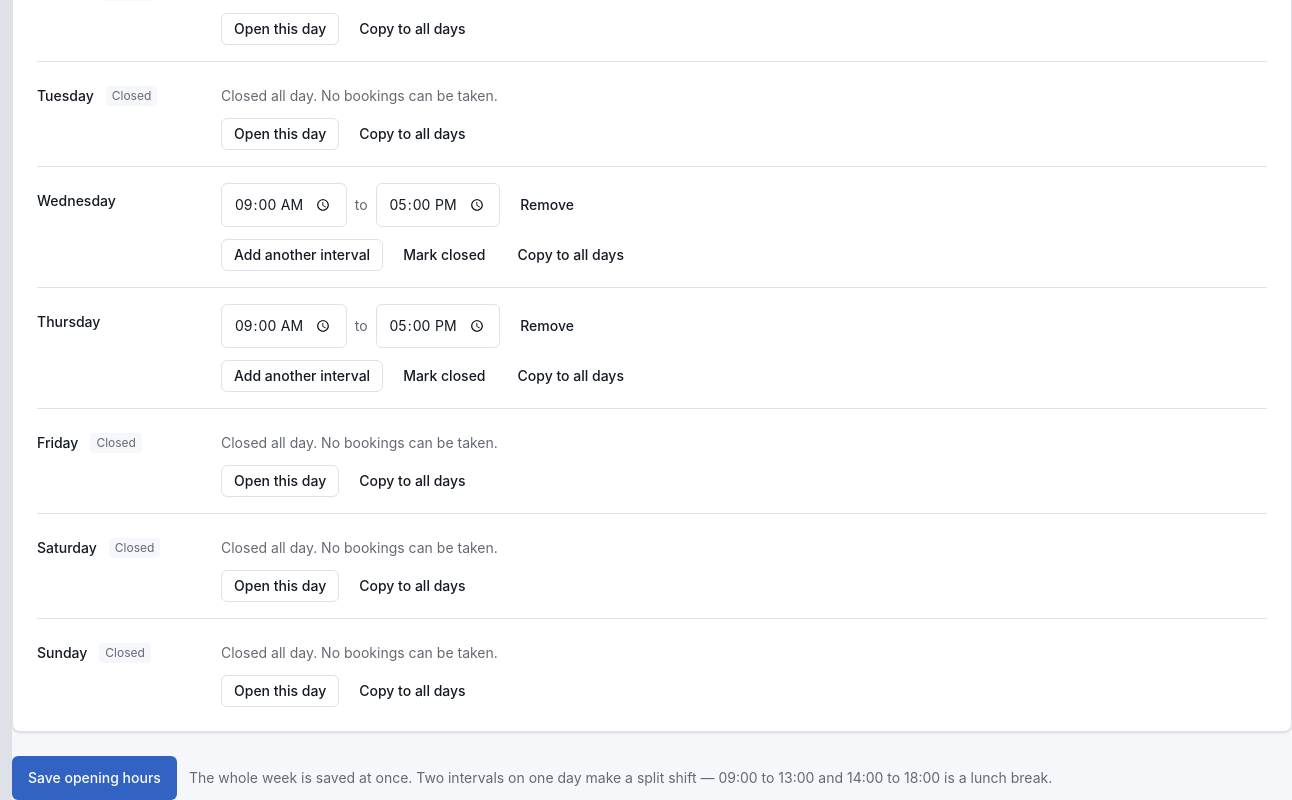
Scenario: HoursEditor, refused › shows the server sentence when the refusal names no field at all
This screenshot has width=1292, height=800.
(page scrolled)
Step 1. Click the button "Save opening hours" → (94, 778), box [12,756,177,799]
(page scrolled)
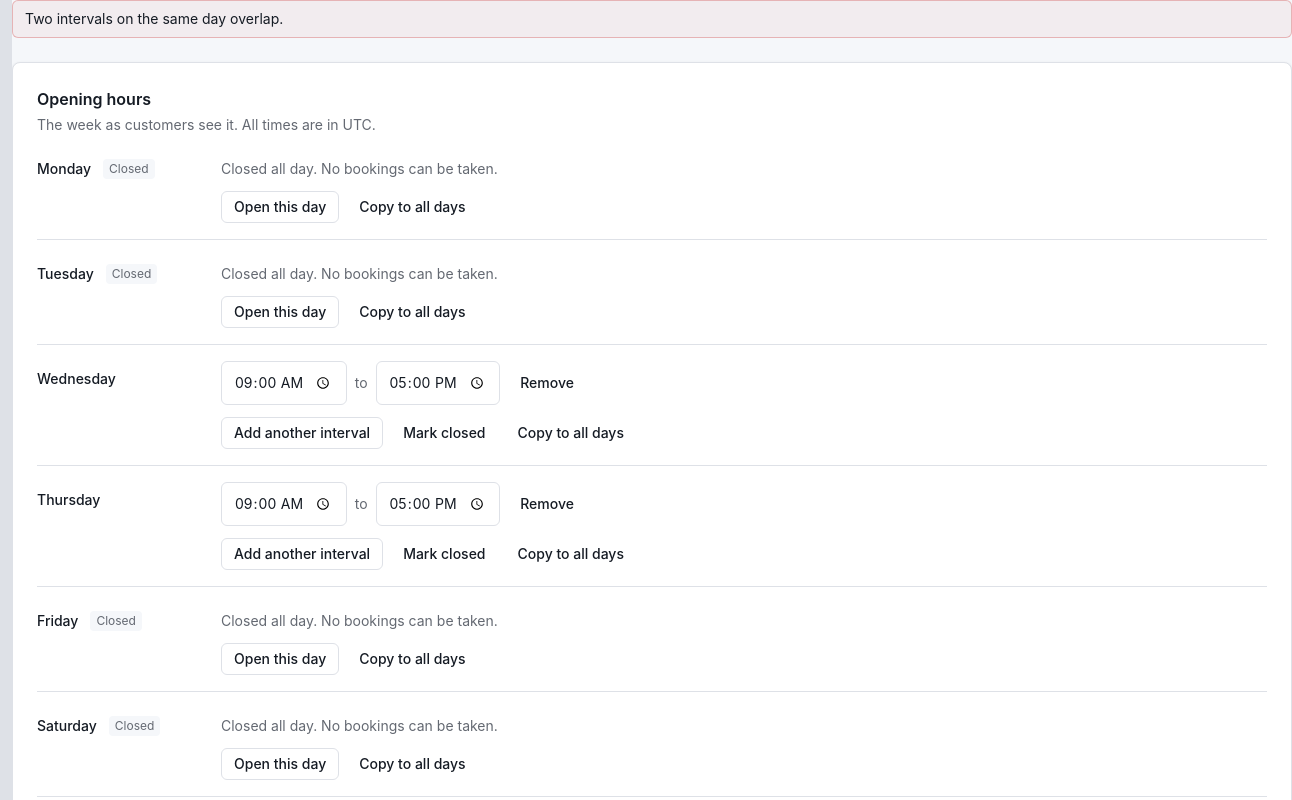
Check: the text "Two intervals on the same day overlap." is shown, box [25,10,283,27]
